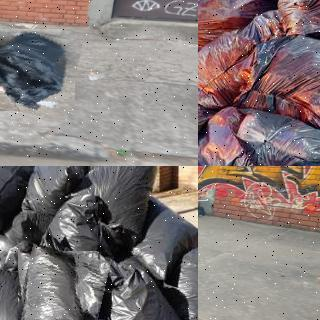Garbage: (198, 1, 296, 110), (230, 28, 320, 134), (34, 186, 129, 272), (0, 23, 78, 117), (11, 247, 104, 320), (85, 166, 168, 246), (94, 253, 190, 320), (198, 0, 279, 76), (229, 102, 320, 166), (198, 101, 274, 166), (164, 240, 198, 320), (0, 166, 28, 232), (0, 253, 26, 320)
